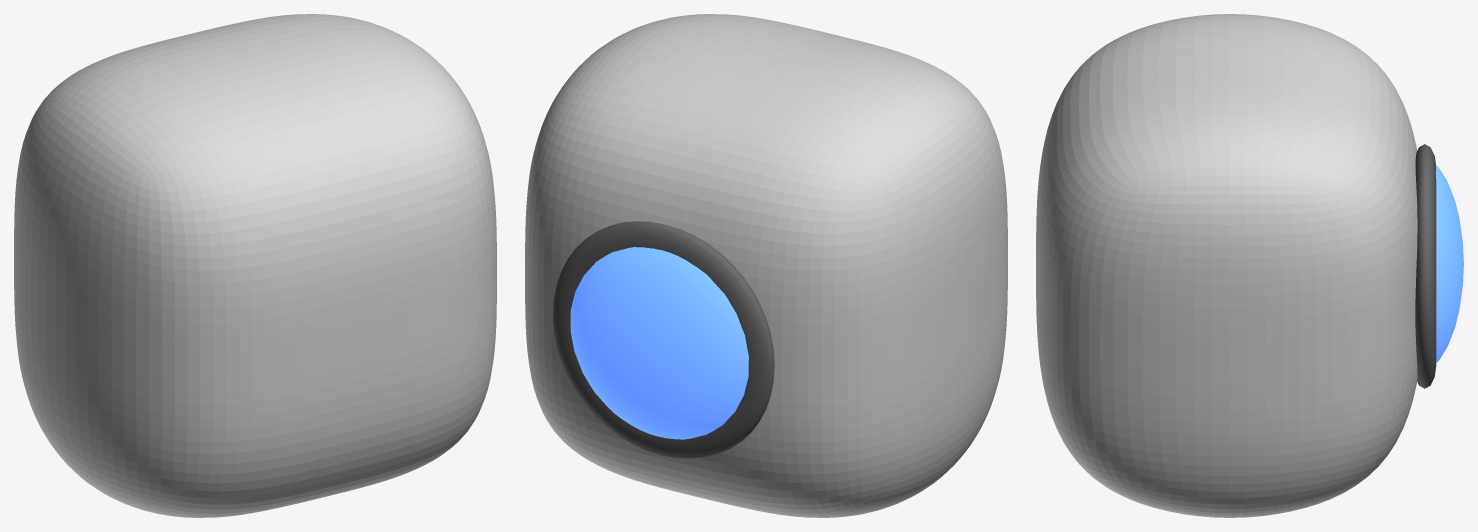
The model's file is cobot.fbx.
The picture shows the model from 3 angles, left to right: view 1: azimuth 30°, elevation 25°; view 2: azimuth 150°, elevation 25°; view 3: azimuth 270°, elevation 25°; orthographic projection. The views are drawn at different scales.
Visible parts, largest first — view 1: Cube; view 2: Cube, Sphere, Torus.001; view 3: Cube, Torus.001, Sphere.
Boxes of the visible parts, x1=… form: Cube: x1=14, y1=14, x2=496, y2=517; Cube: x1=525, y1=14, x2=1007, y2=517; Sphere: x1=570, y1=247, x2=748, y2=439; Torus.001: x1=553, y1=221, x2=774, y2=458; Cube: x1=1036, y1=14, x2=1417, y2=517; Torus.001: x1=1415, y1=144, x2=1436, y2=388; Sphere: x1=1436, y1=165, x2=1463, y2=362.
Size of the model in its own units: 2.33 by 2.33 by 2.25.
